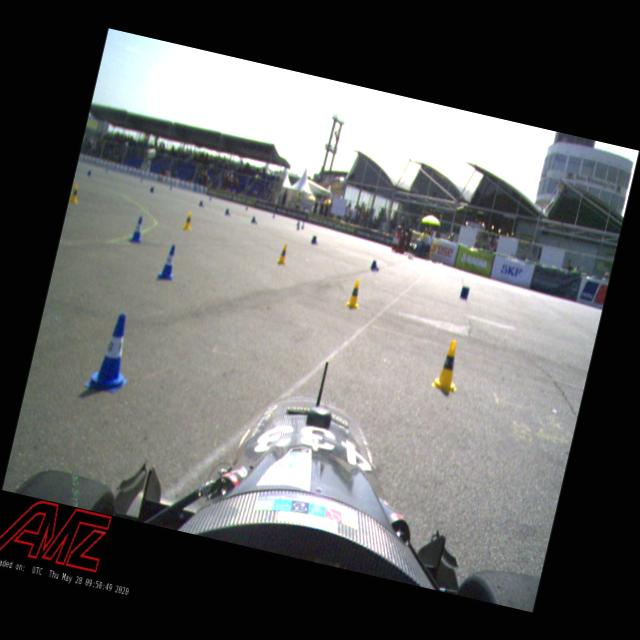blue_cone: (86, 308, 140, 396), (155, 242, 181, 282), (128, 213, 148, 244), (369, 259, 381, 273), (223, 208, 232, 218), (310, 235, 319, 245), (250, 214, 258, 224), (198, 200, 205, 208)
yellow_cone: (430, 336, 468, 395), (344, 277, 364, 311), (276, 241, 290, 266), (68, 182, 81, 205), (181, 210, 195, 231)
